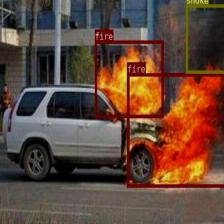fire: (126, 72, 224, 186), (94, 40, 163, 117)
smoke: (185, 4, 224, 73)
